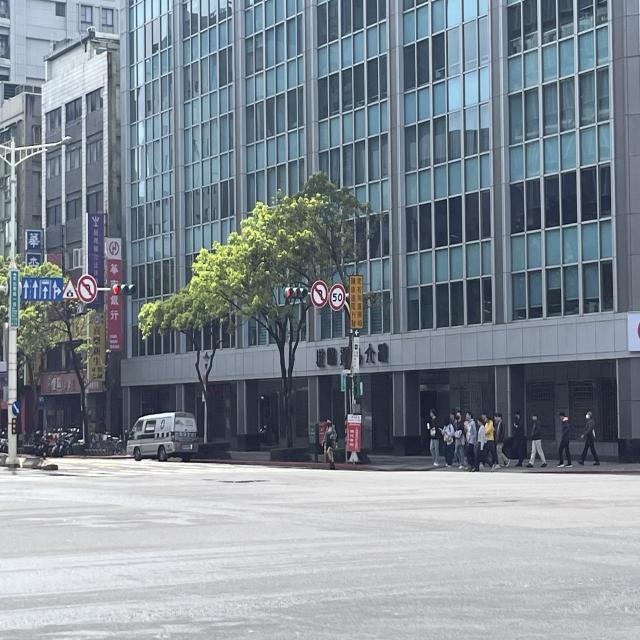red light: (278, 284, 309, 302), (111, 284, 136, 298)
